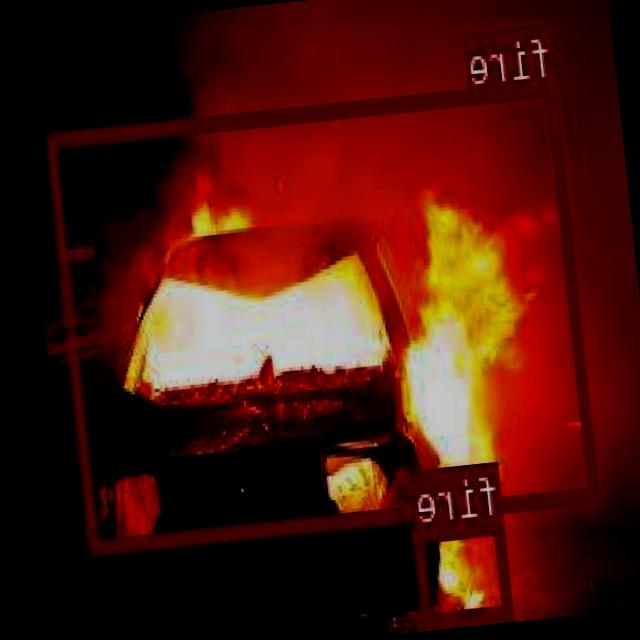fire: (48, 79, 602, 552), (416, 514, 514, 624)
